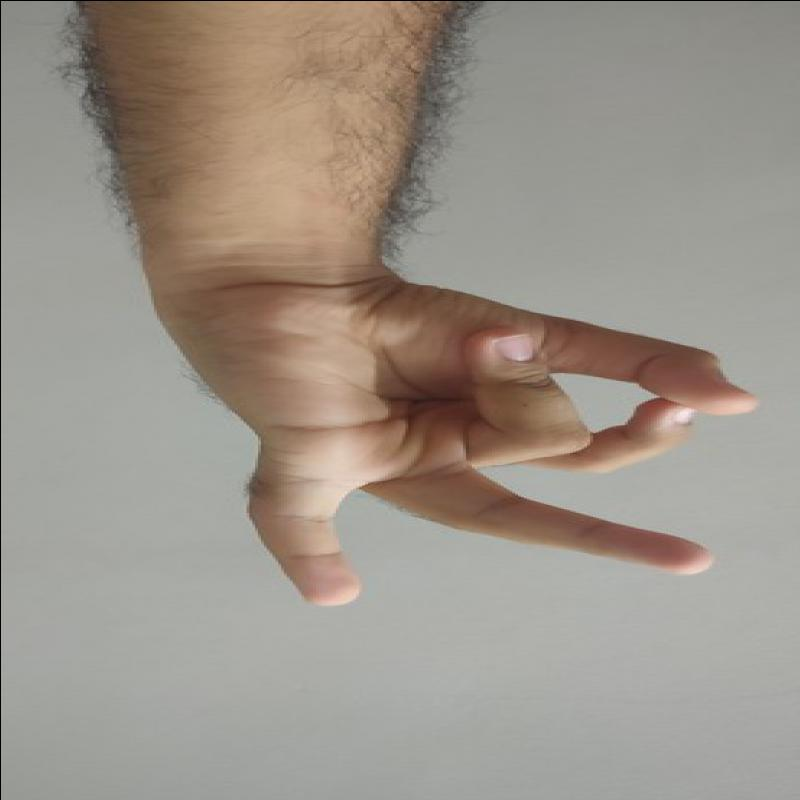Katakam: (140, 254, 764, 621)
